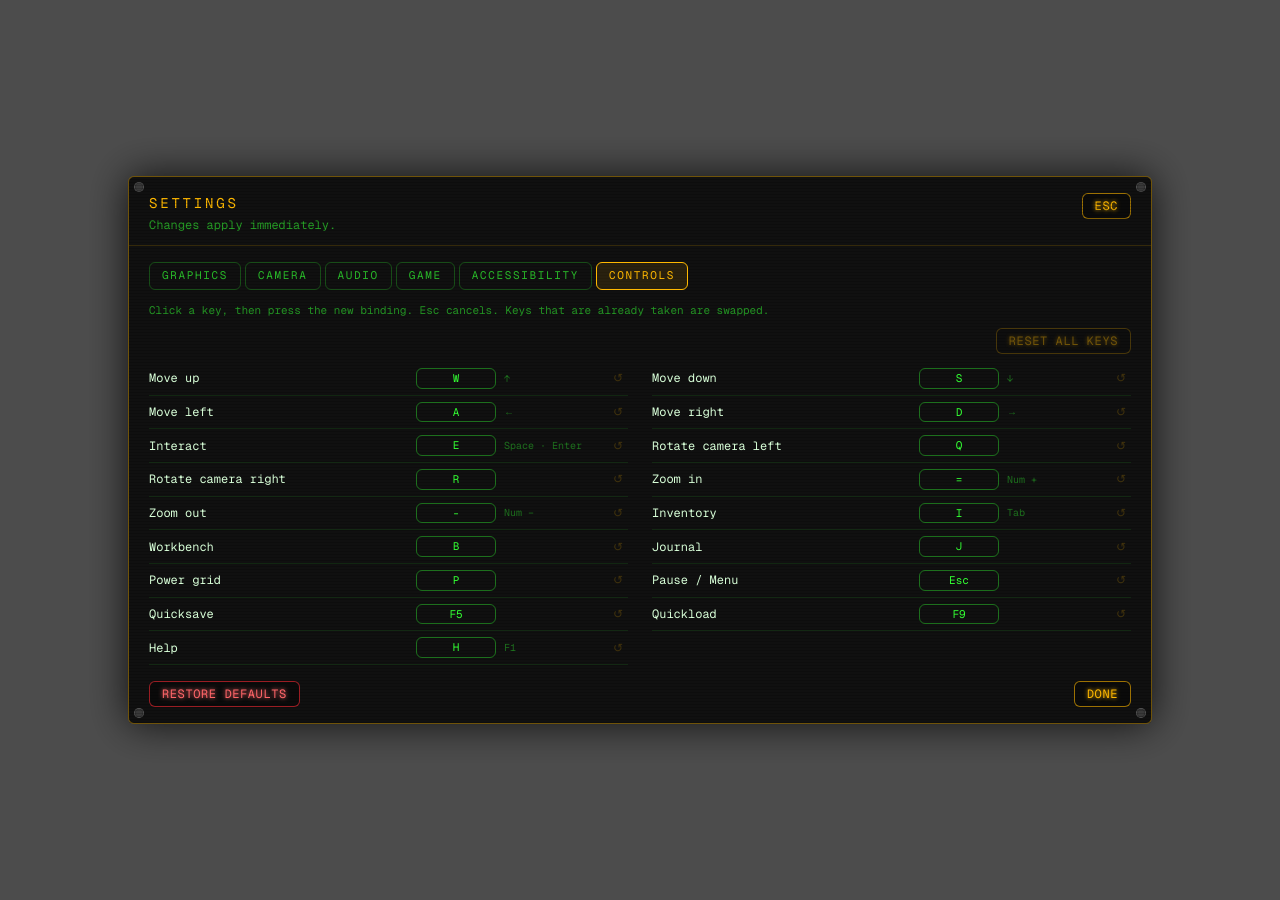
Test: SettingsPanel › rebinds a key and swaps on conflict
Step 1. Click the button named "Rebind Interact" → (456, 446), box top-left (416, 435), bottom-right (496, 456)
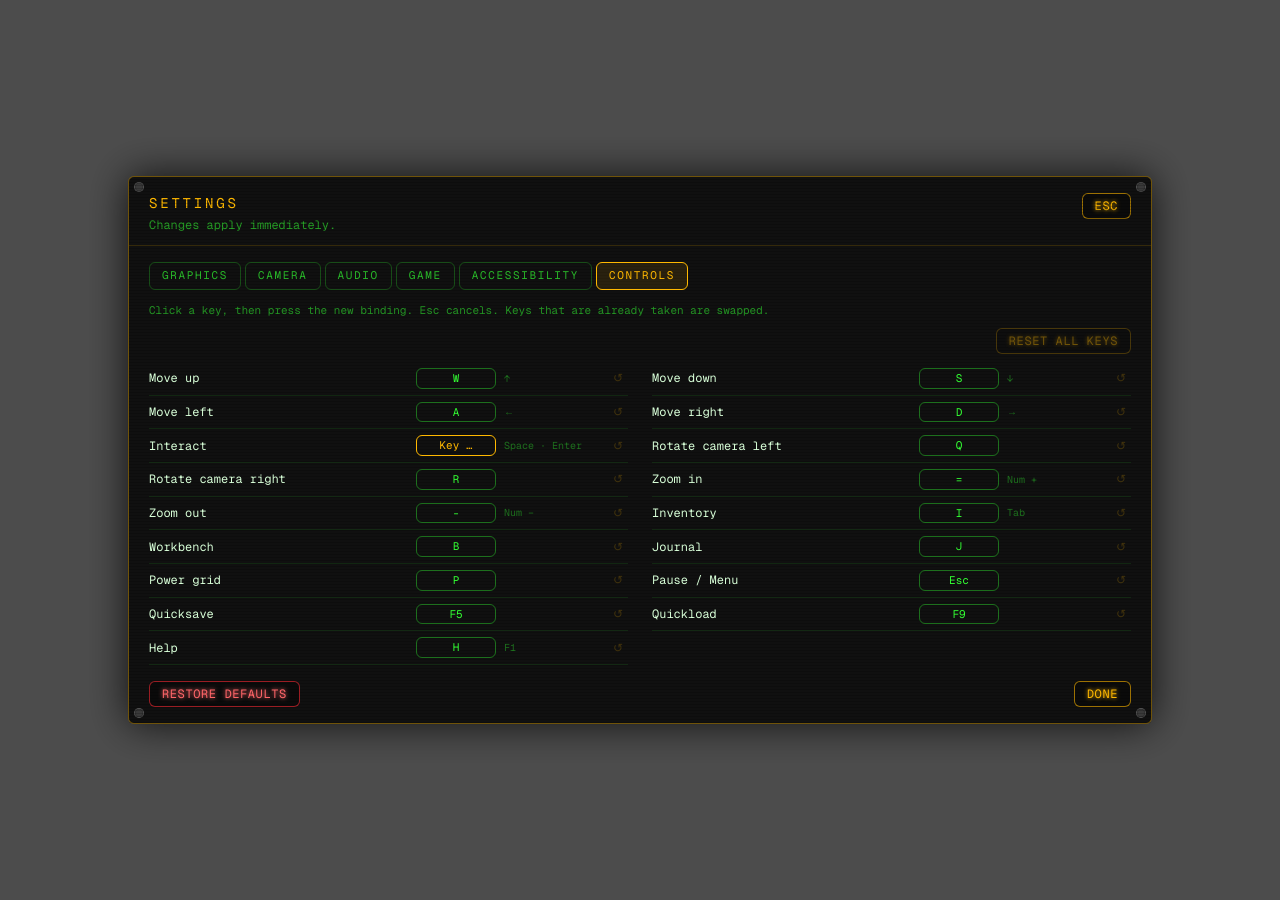
Step 2. Press q
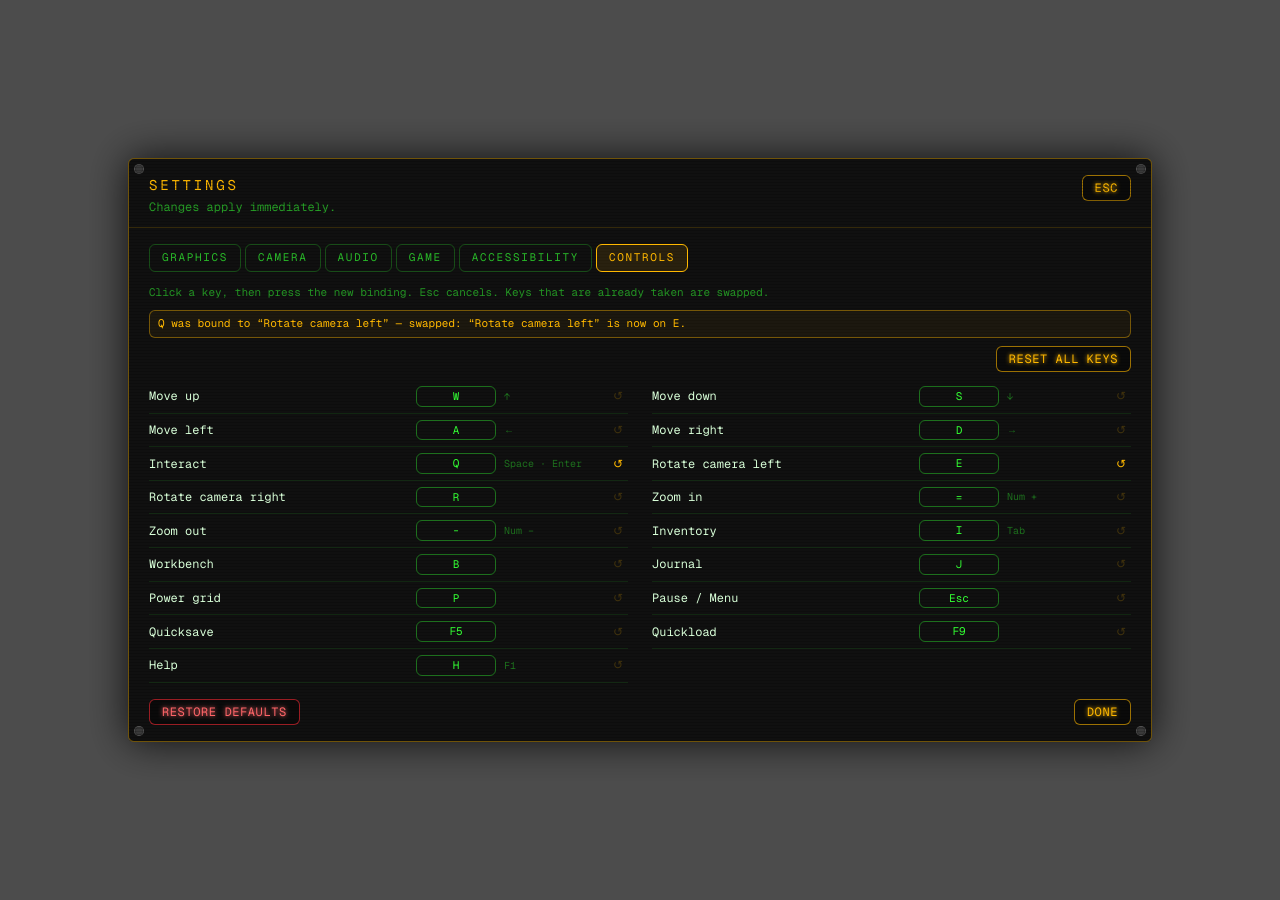
Result: the text "was bound to “Rotate camera left”" is shown at top-left (158, 316), bottom-right (686, 330)
